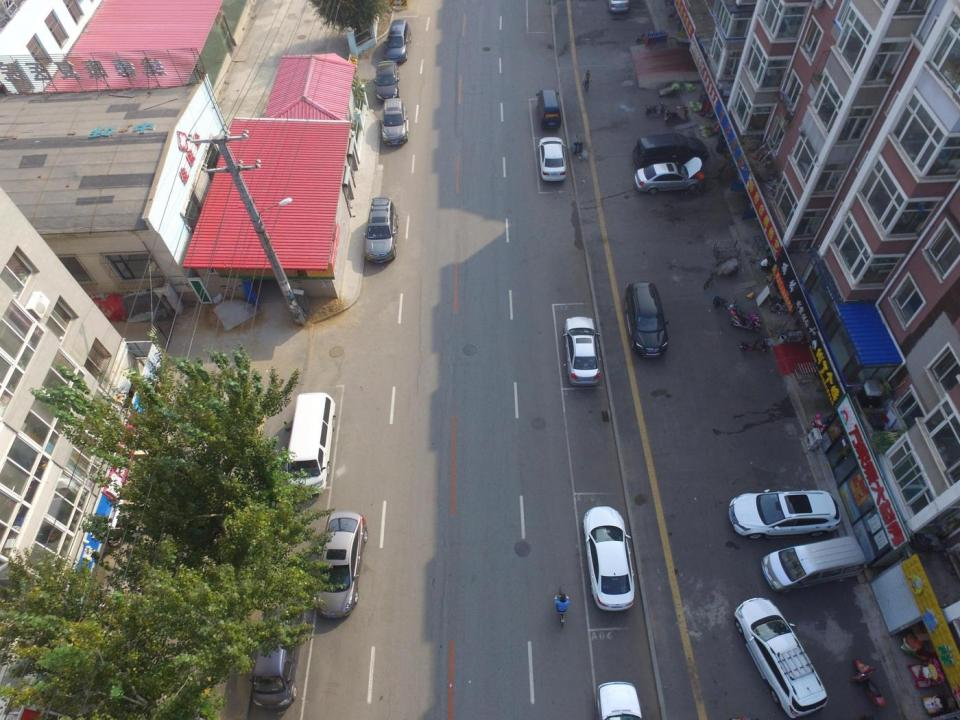bus: (703, 254, 742, 289)
car: (313, 510, 368, 620), (728, 488, 842, 540), (581, 505, 635, 612), (624, 279, 669, 358), (562, 315, 602, 387), (634, 156, 704, 195), (363, 197, 400, 264), (380, 97, 409, 146), (384, 19, 411, 66), (539, 137, 566, 183), (374, 59, 399, 104)
van: (733, 597, 829, 718), (760, 536, 867, 594), (249, 607, 306, 711), (284, 391, 336, 498), (633, 132, 708, 166), (536, 89, 562, 131)
